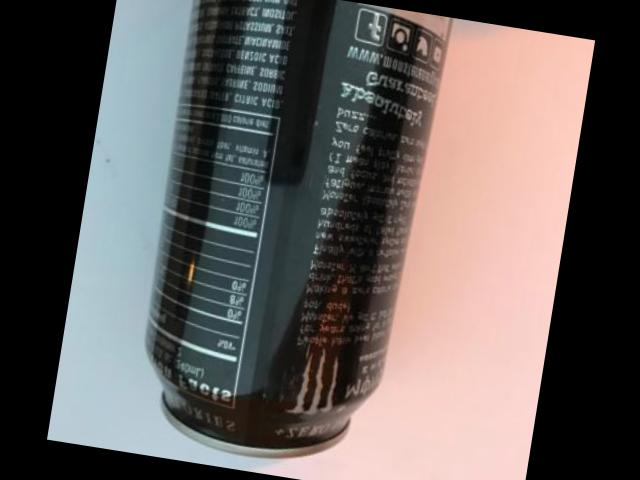metal: (149, 0, 450, 459)
